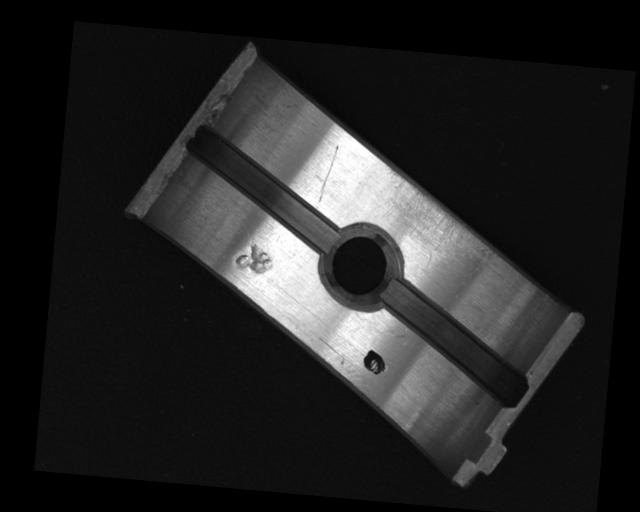blot: (361, 347, 388, 377)
bruise: (233, 239, 274, 275)
gap: (177, 123, 346, 251), (373, 279, 535, 408)
hole: (314, 221, 405, 313)
nick: (314, 144, 339, 210)
scratch: (373, 162, 514, 279)
